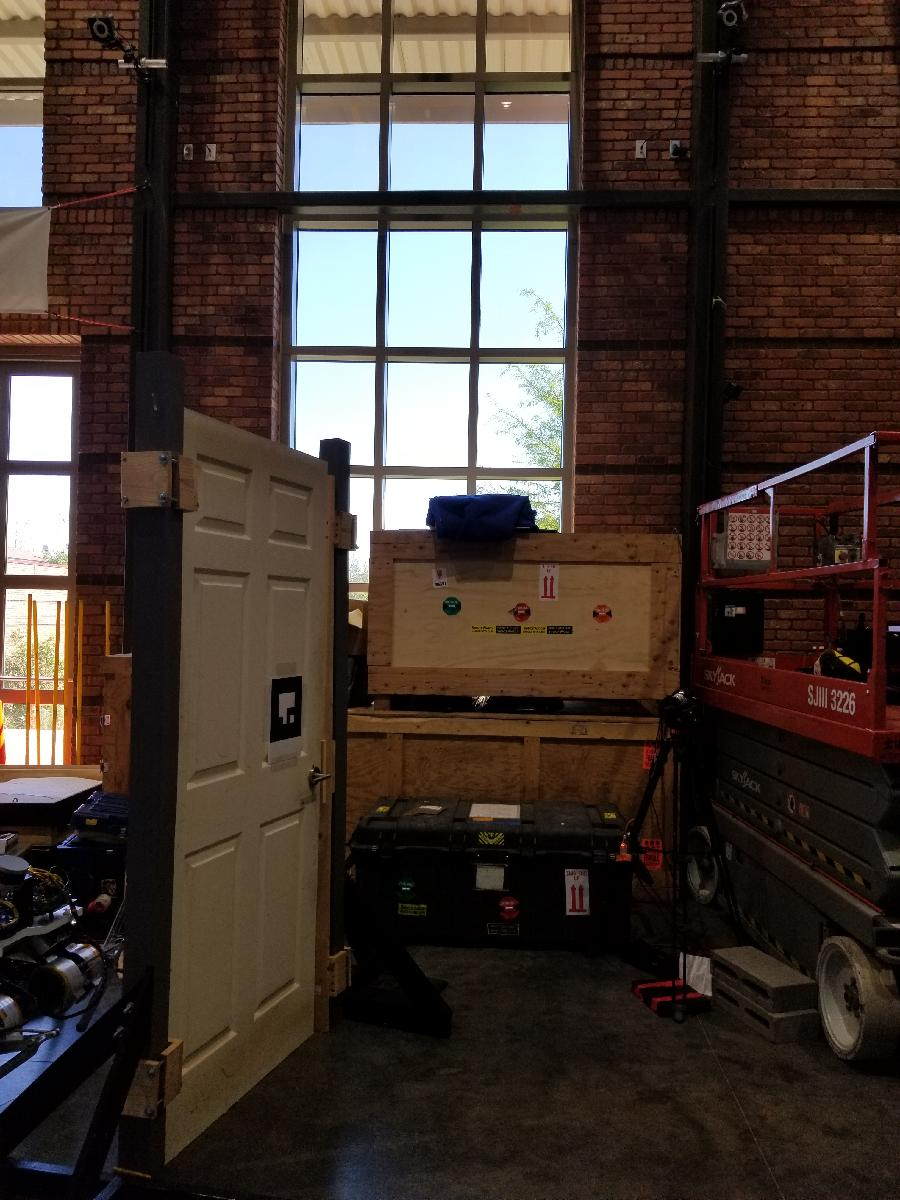door: (159, 405, 338, 1170)
doorHandle: (306, 762, 330, 798)
